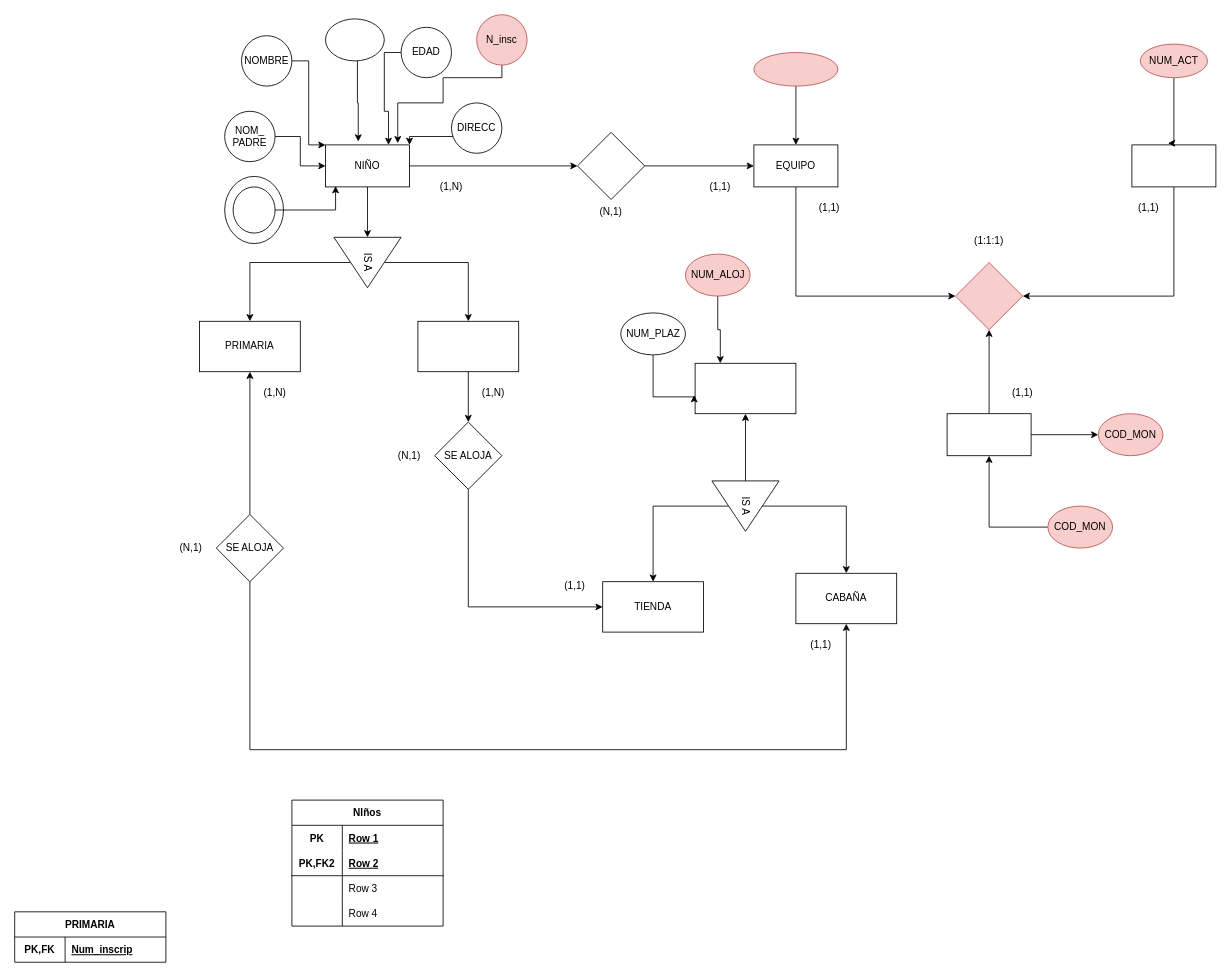
The diagram is 1231 pixels wide and 977 high, and some of its shapes have lost their labels. Each missing label, with the centre of its shape:
"ACTIVIDAD" belongs at point (1173, 165).
"ALOJAMIENTO" belongs at point (745, 388).
"APELL" belongs at point (354, 39).
"ESO" belongs at point (468, 346).
"MONITOR" belongs at point (988, 434).
"NUM" belongs at point (795, 69).
"REALIZA" belongs at point (989, 296).
"SE AGRUPA" belongs at point (611, 165).
"TELF" belongs at point (253, 209).
